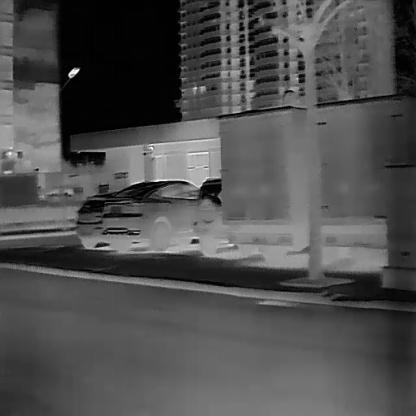car: (97, 179, 201, 249), (74, 190, 112, 249), (196, 176, 224, 255)
